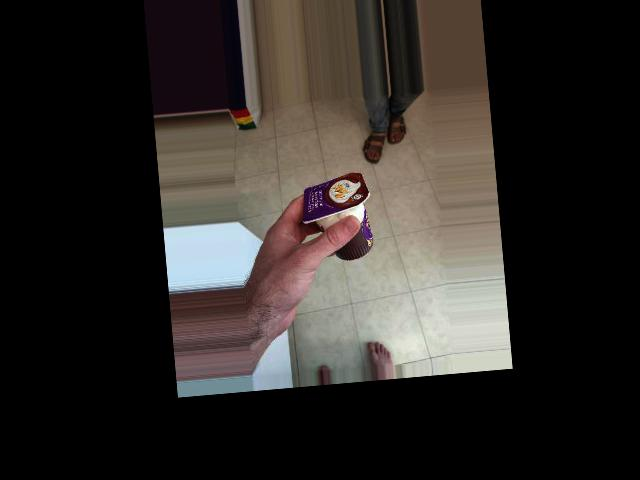milky: (311, 163, 404, 230)
